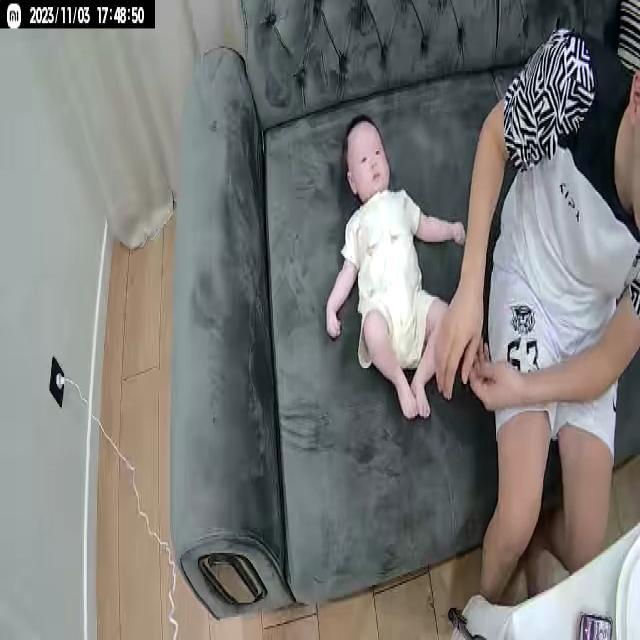baby: (324, 109, 467, 434)
